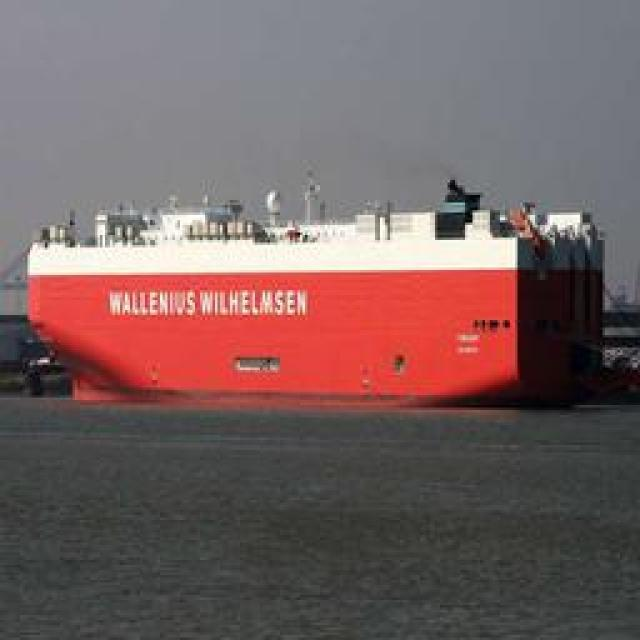CIV_Ship: (30, 178, 615, 398)
